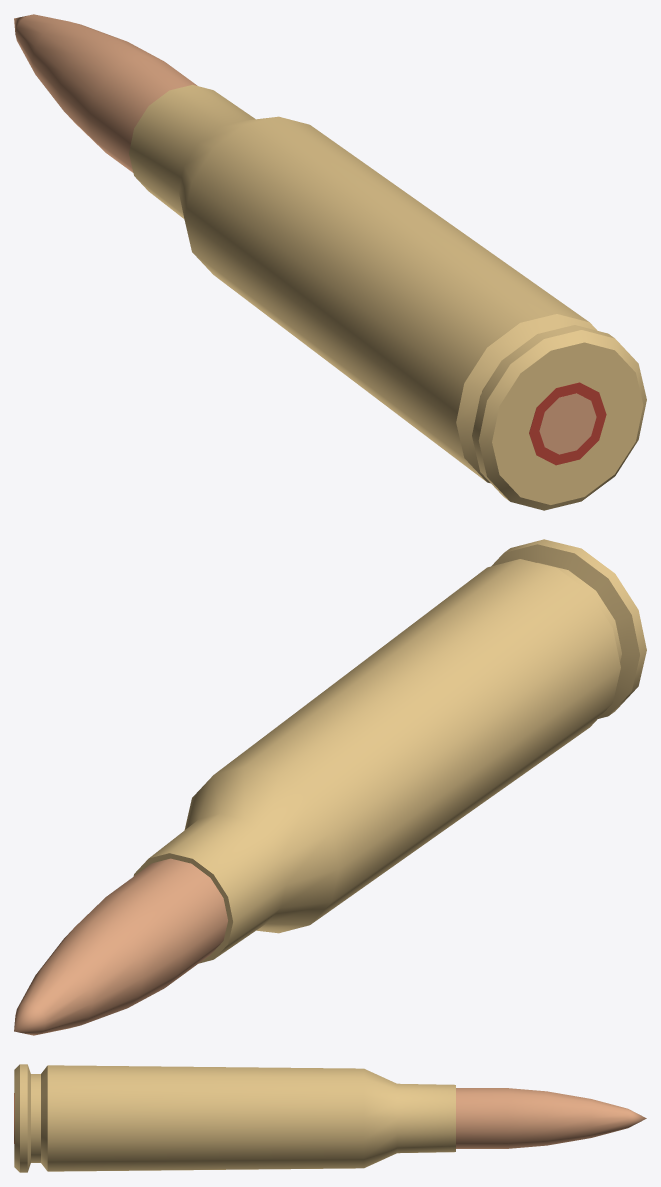
Rendered from round_545.glb.
3 renders of one model, top to bottom at view 1: azimuth 30°, elevation 25°; view 2: azimuth 150°, elevation 25°; view 3: azimuth 270°, elevation 25°, orthographic. The views are drawn at different scales.
Visible parts, largest first — view 1: body; view 2: body; view 3: body.
Boxes of the visible parts, box(x1,y1,x2,y2) form: body: box(14, 14, 646, 510); body: box(14, 539, 646, 1035); body: box(14, 1064, 646, 1172).
Bounding box in the file's own units: 0.01 × 0.00975 × 0.057.
